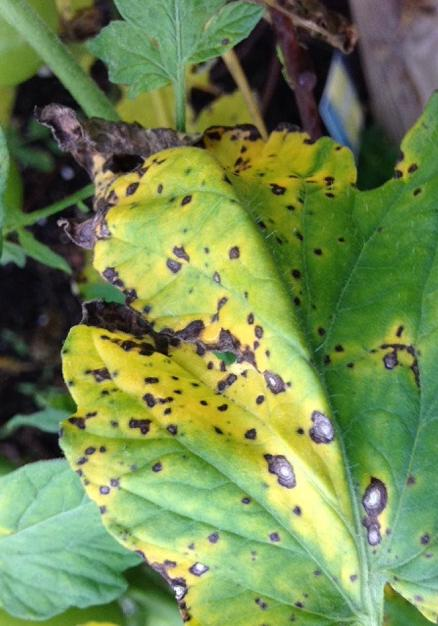Tomato Septoria leaf spot: (61, 102, 438, 626)
